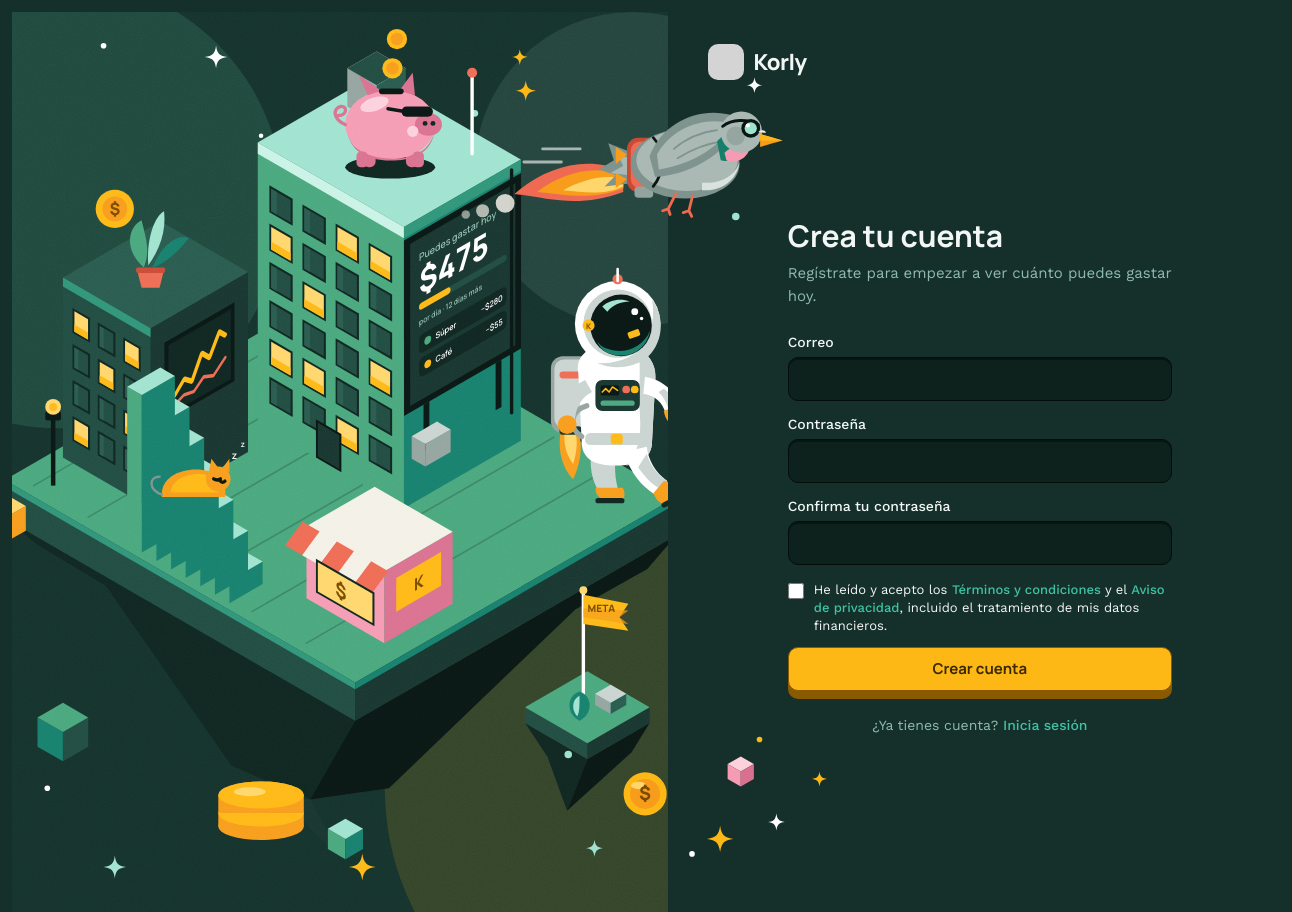
it: Registro › sin aceptar los términos y el aviso no se crea la cuenta, y los dos enlaces están a la vista
Type "nuevo@correo.com" into the field labelled "Correo" at (980, 379), box [788,357,1172,401]
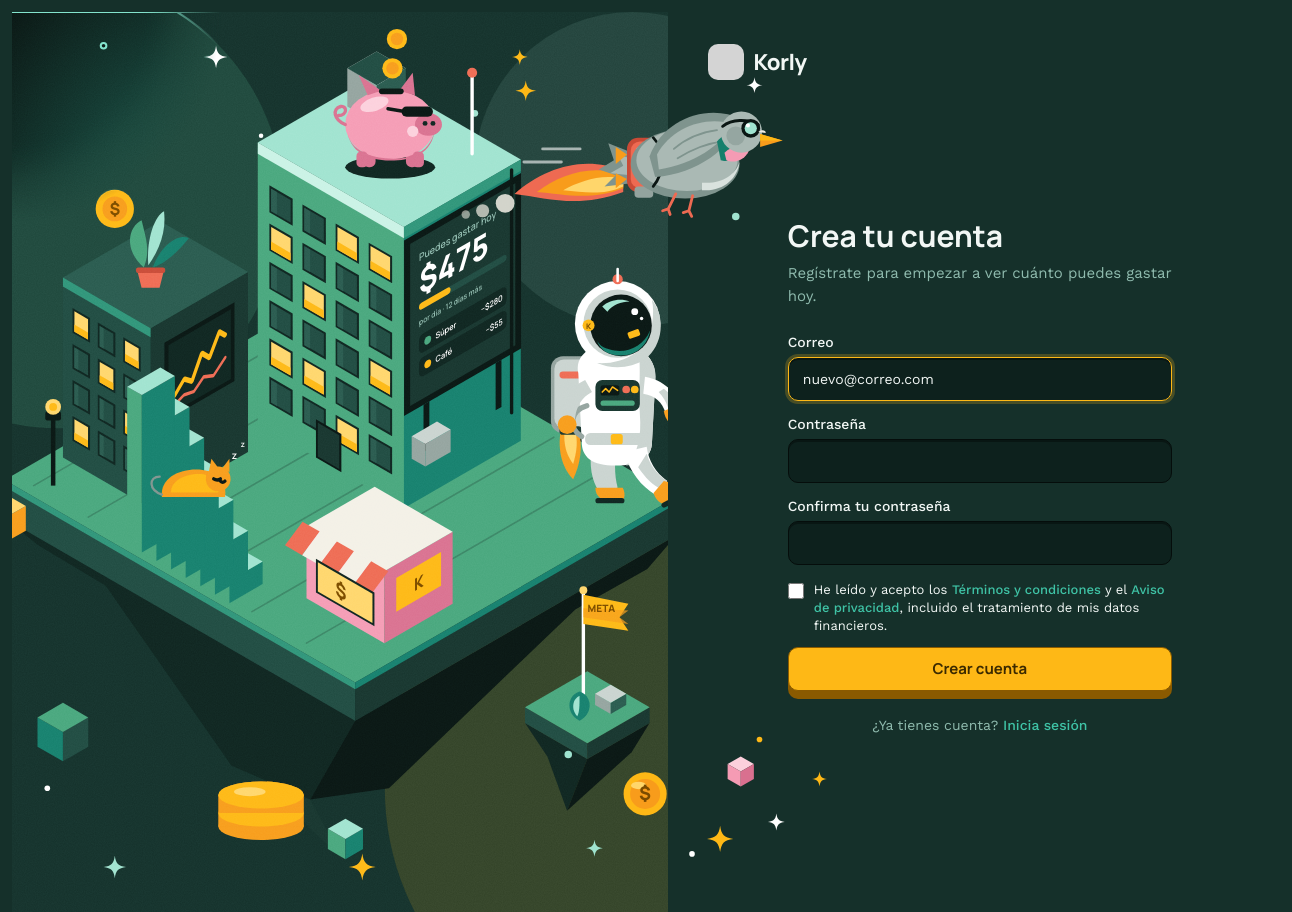
Type "12345678" into the password field labelled "Contraseña" at (980, 461), box [788,439,1172,483]
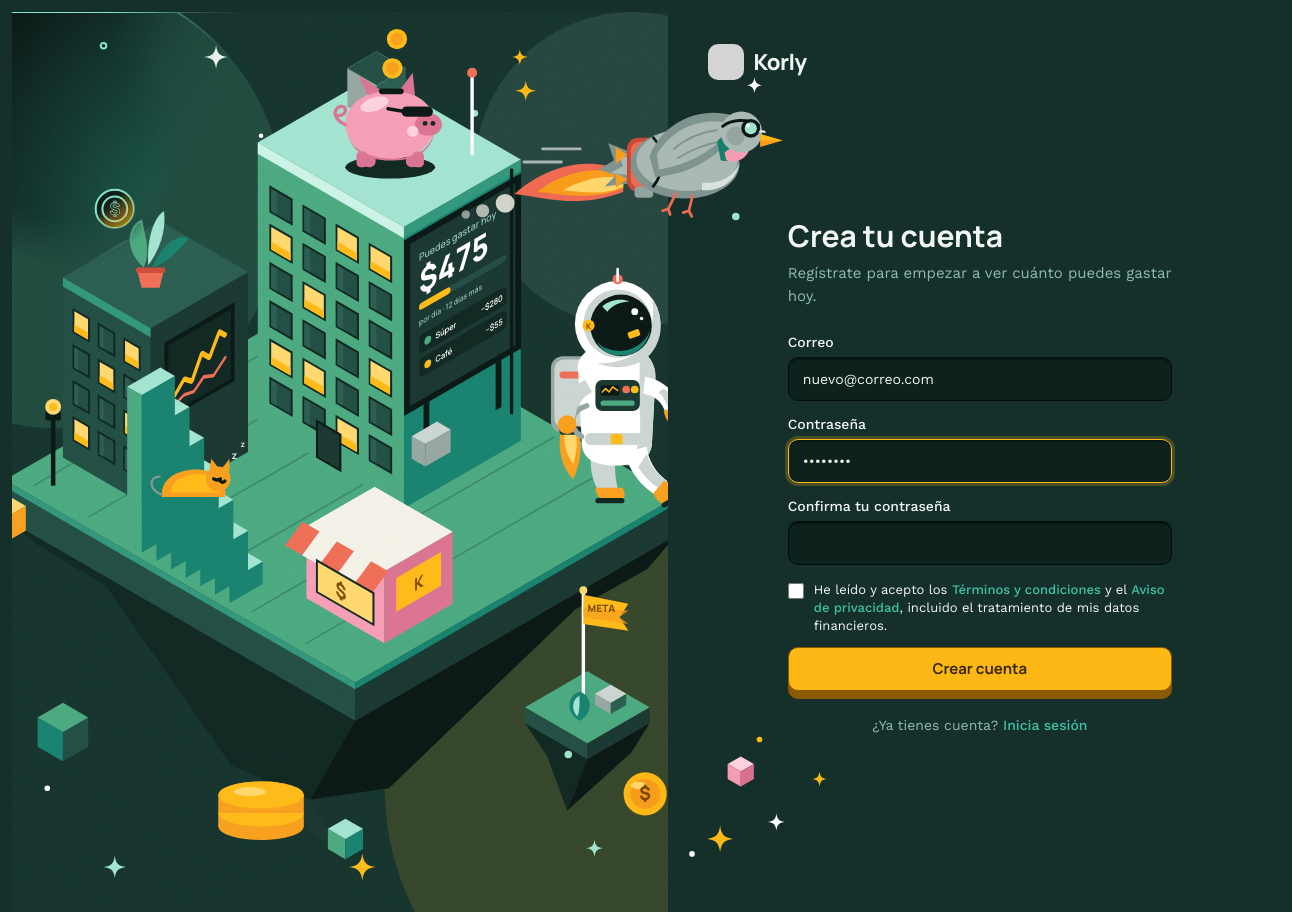
Type "12345678" into the password field labelled "Confirma tu contraseña" at (980, 543), box [788,521,1172,565]
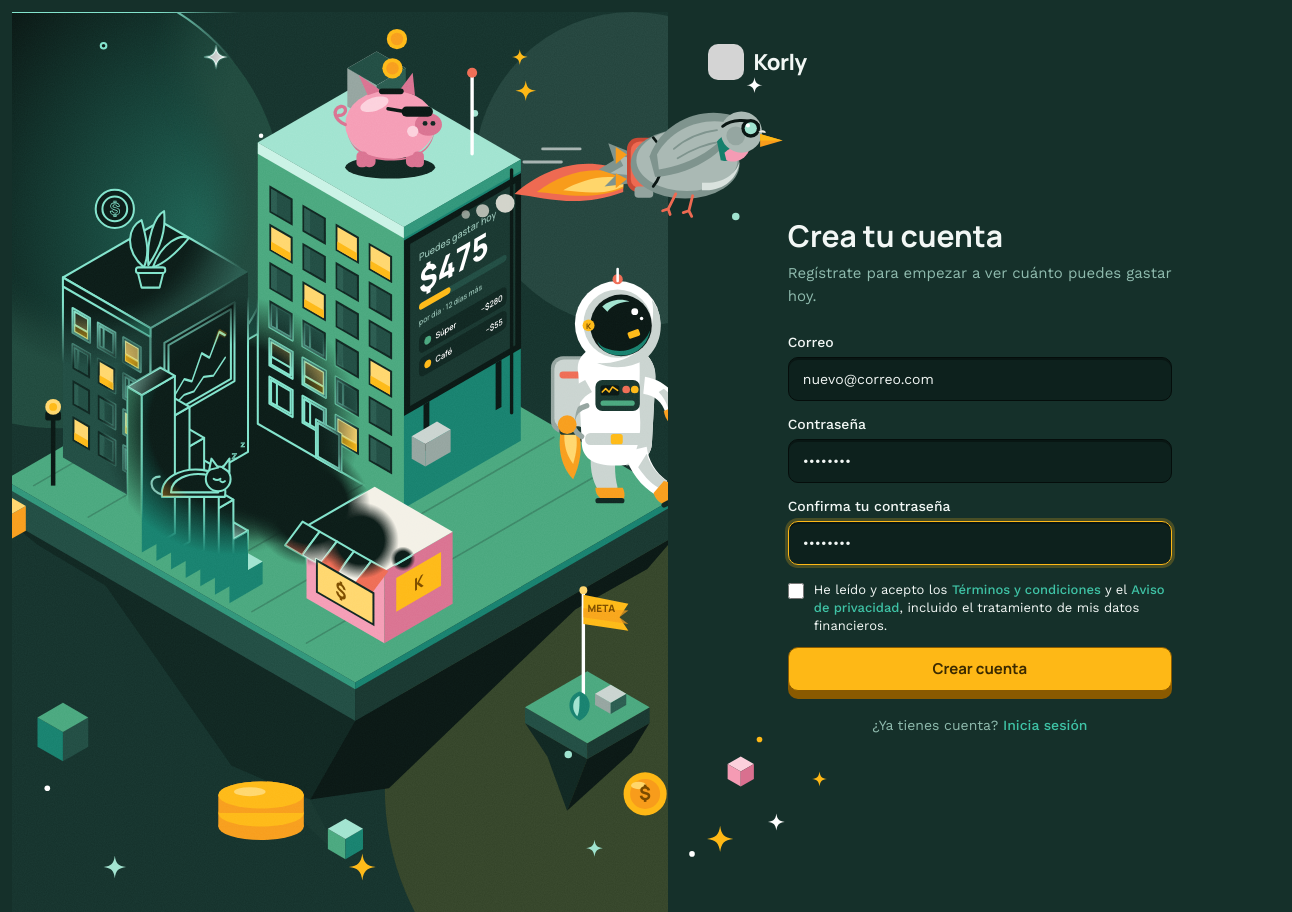
Click the button "Crear cuenta" at (980, 673), box [788,651,1172,695]
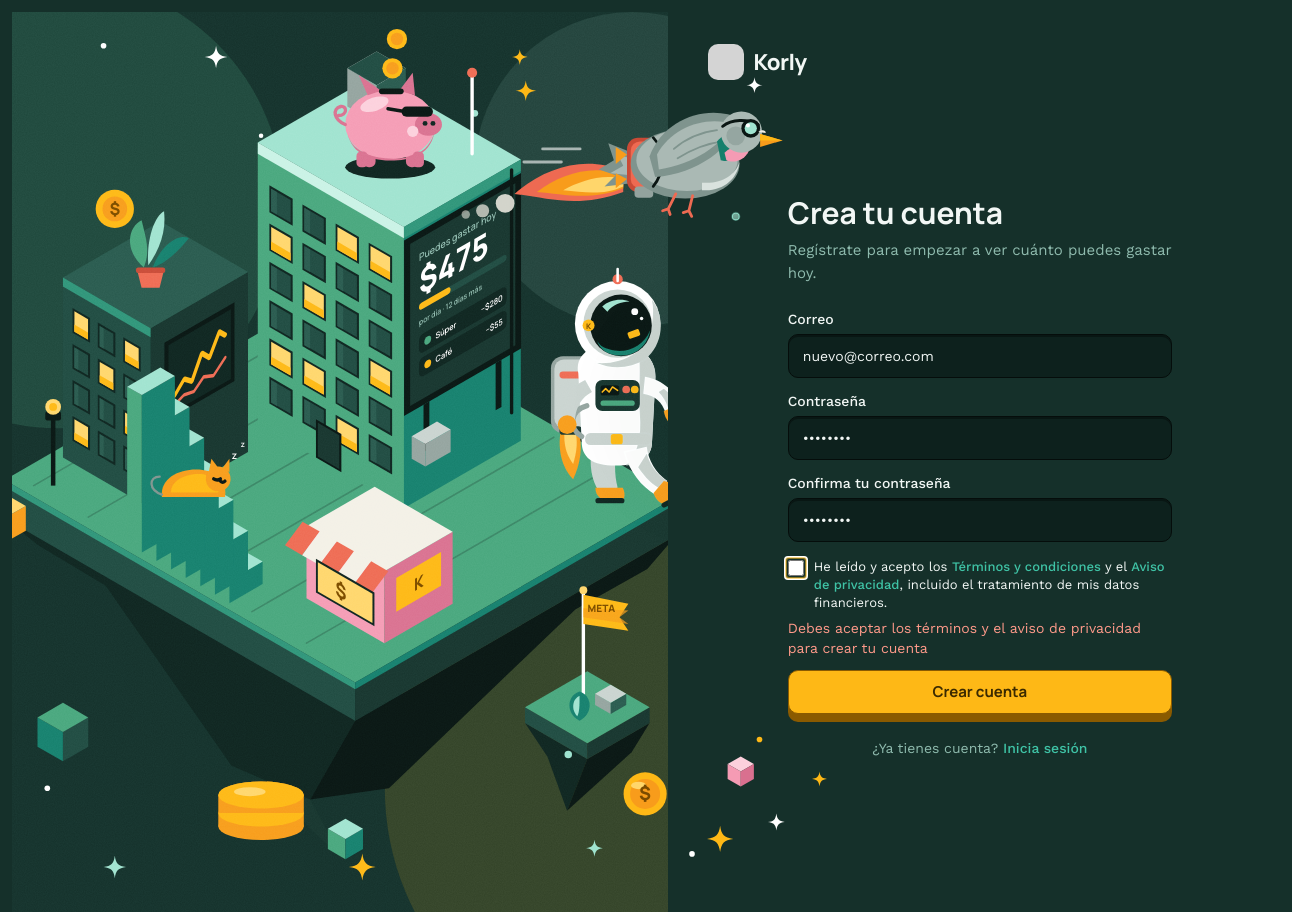
Check: the text "Debes aceptar los términos y el aviso de privacidad para crear tu cuenta" is shown, box [788,618,1172,658]
